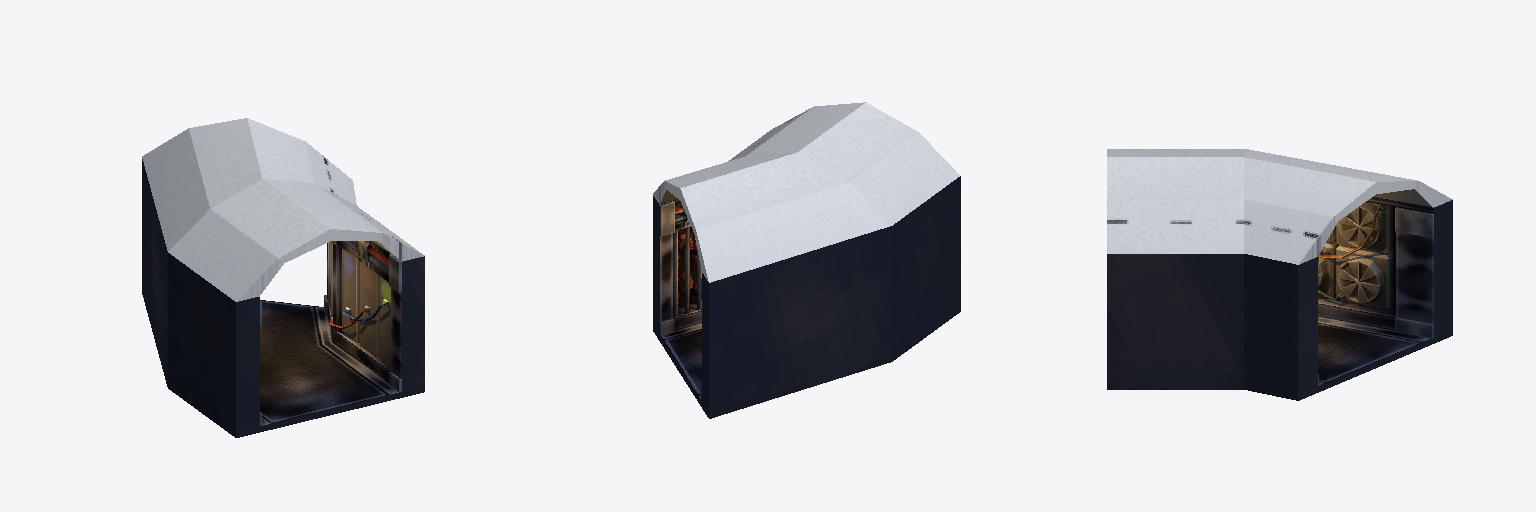
3 views of the same model, side by side, from view 1: azimuth 30°, elevation 25°; view 2: azimuth 150°, elevation 25°; view 3: azimuth 270°, elevation 25° (orthographic).
Size of the model in its own units: 8.98 by 7.53 by 12.67.
2 materials, 2 textured.